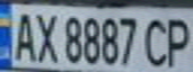7: (118, 14, 142, 68)
8: (78, 12, 103, 65), (60, 11, 84, 64), (100, 12, 121, 65)
A: (6, 8, 39, 62)
C: (139, 13, 172, 69)
P: (160, 12, 193, 69)
X: (33, 10, 60, 63)
